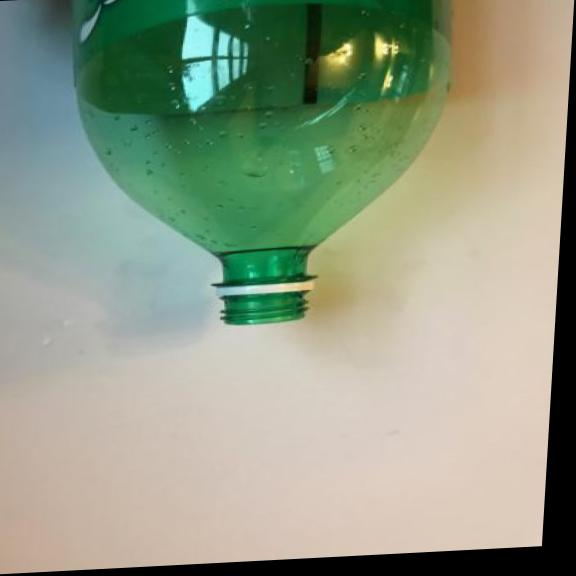Plastik: (45, 0, 460, 341)
